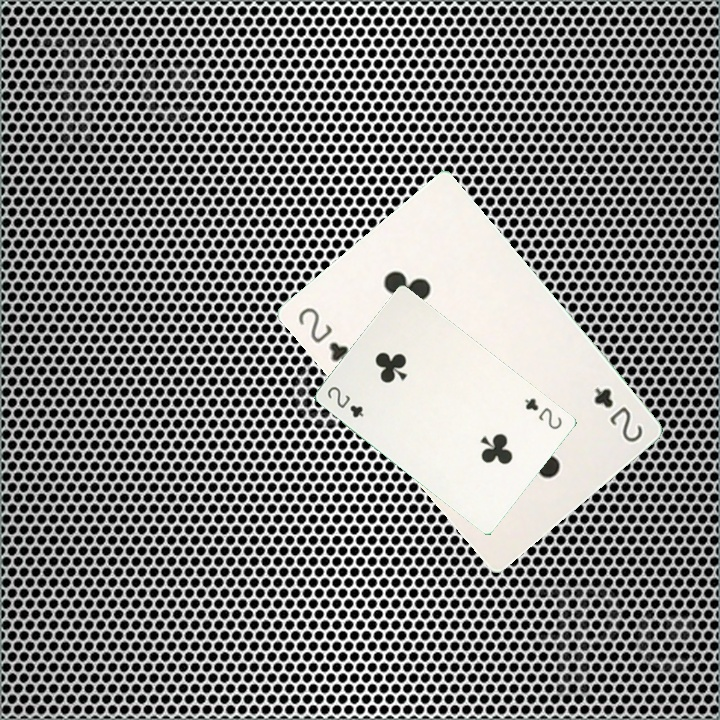2c: (293, 303, 351, 366), (589, 383, 646, 445), (521, 394, 565, 432), (323, 382, 366, 420)
